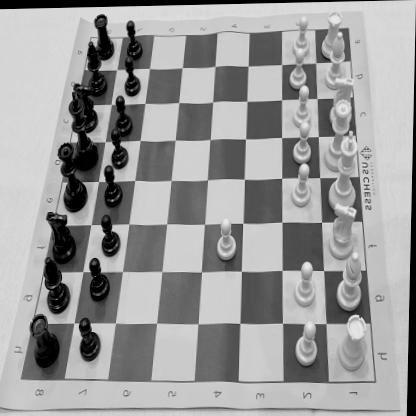black-bishop: (43, 252, 72, 313), (86, 36, 108, 96)
black-king: (68, 89, 100, 171)
black-knight: (46, 206, 78, 260), (71, 80, 99, 132)
black-pawn: (78, 316, 104, 362), (110, 126, 136, 170), (88, 254, 112, 301), (100, 212, 124, 257), (113, 93, 135, 137), (104, 163, 126, 206), (124, 54, 145, 98), (126, 16, 145, 60)
black-queen: (57, 138, 90, 211)
black-rook: (28, 310, 64, 368), (92, 10, 116, 61)
white-bishop: (337, 250, 368, 312), (324, 28, 350, 90)
white-king: (328, 128, 362, 214)
white-knight: (328, 200, 364, 260), (329, 74, 356, 127)
white-pawn: (294, 258, 320, 308), (295, 319, 322, 366), (290, 161, 315, 209), (216, 213, 240, 262), (292, 121, 316, 165), (292, 84, 315, 129), (288, 46, 310, 92), (292, 14, 314, 57)
white-queen: (324, 98, 354, 174)
white-rook: (337, 313, 371, 374), (321, 10, 346, 61)
